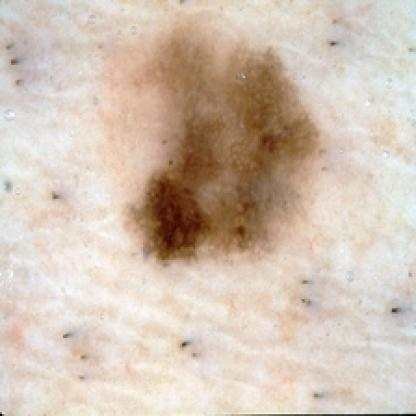malignant: (143, 50, 303, 247)
